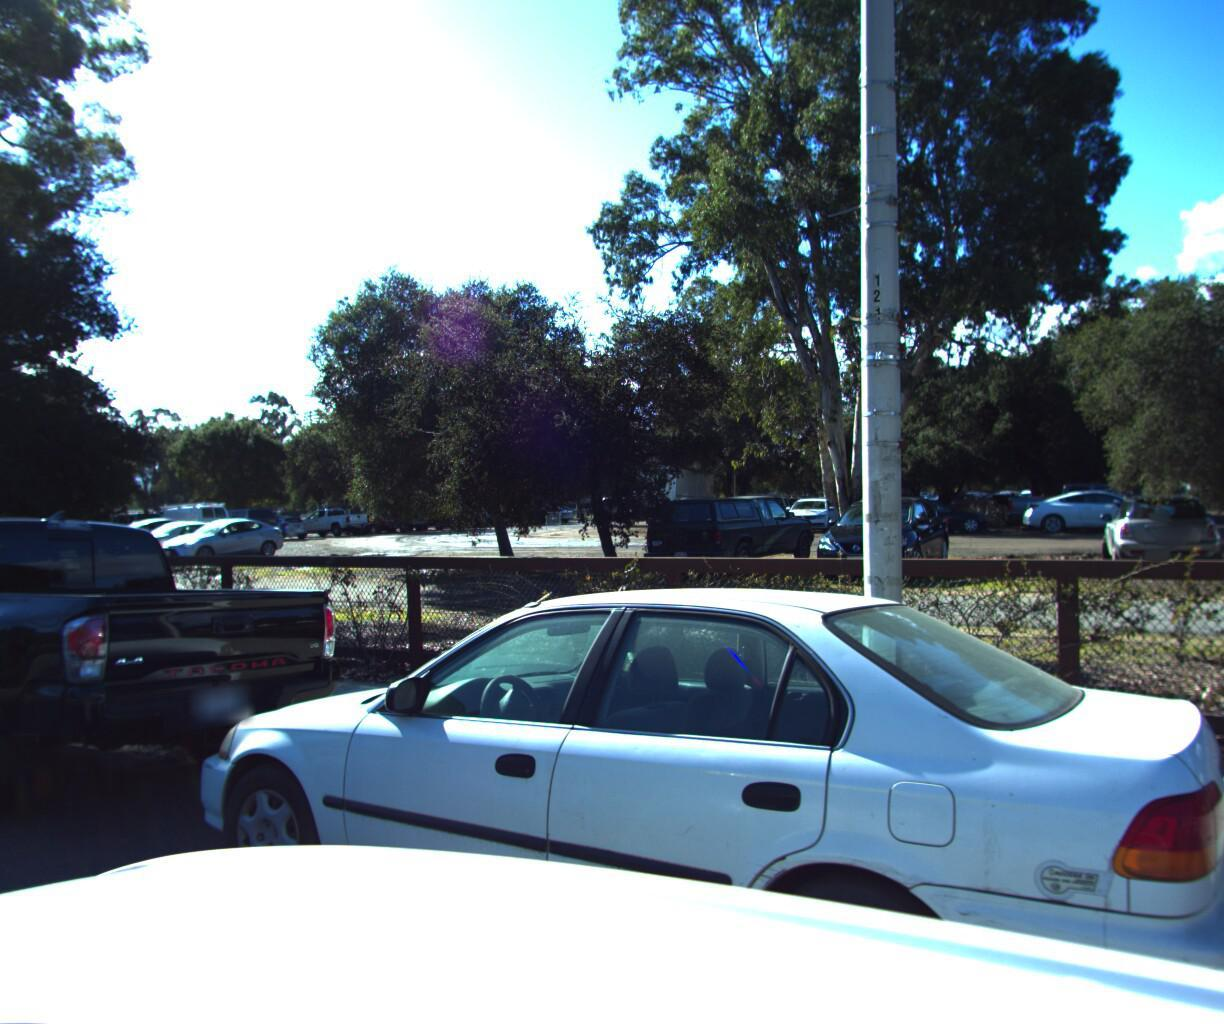car: (125, 563, 1224, 1024), (0, 498, 374, 908), (797, 487, 968, 582), (636, 488, 823, 573)
